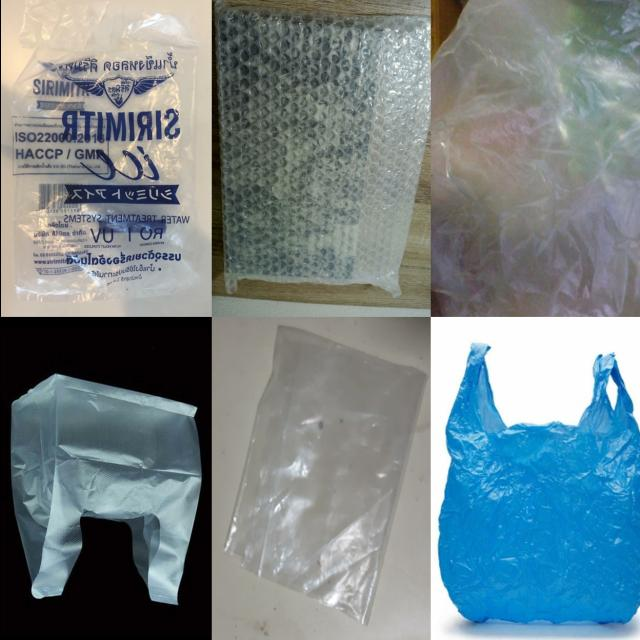plastik: (431, 0, 640, 316), (215, 4, 429, 297), (224, 327, 425, 624), (437, 344, 640, 623), (11, 0, 198, 300), (10, 375, 200, 604)
